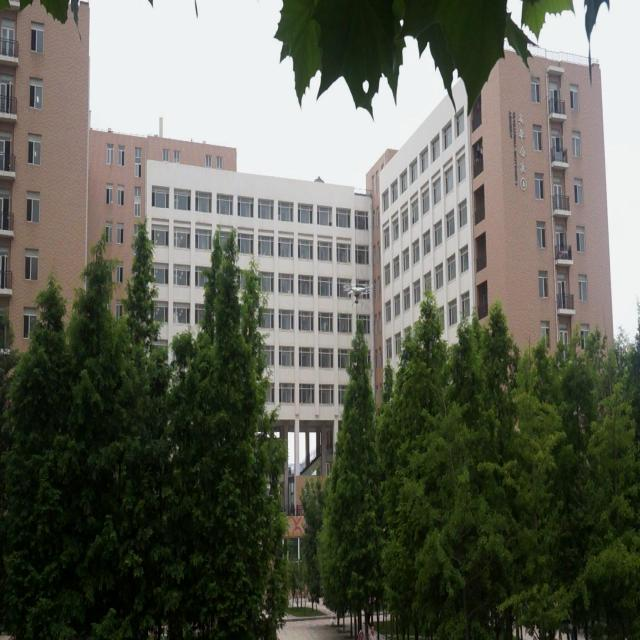drone: (344, 282, 370, 308)
